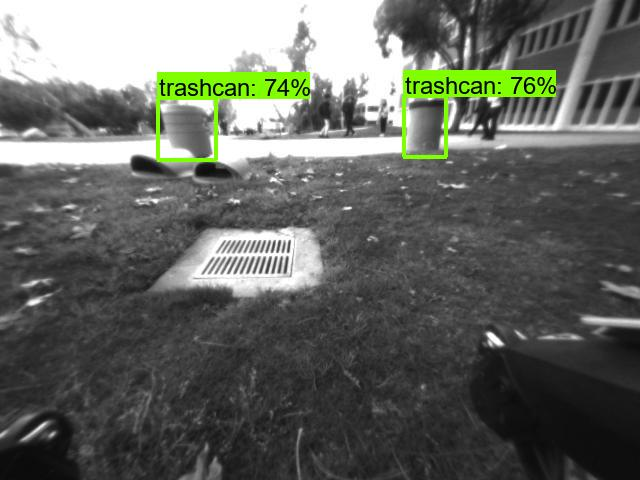trashcan: (162, 98, 217, 159), (410, 101, 439, 152)
